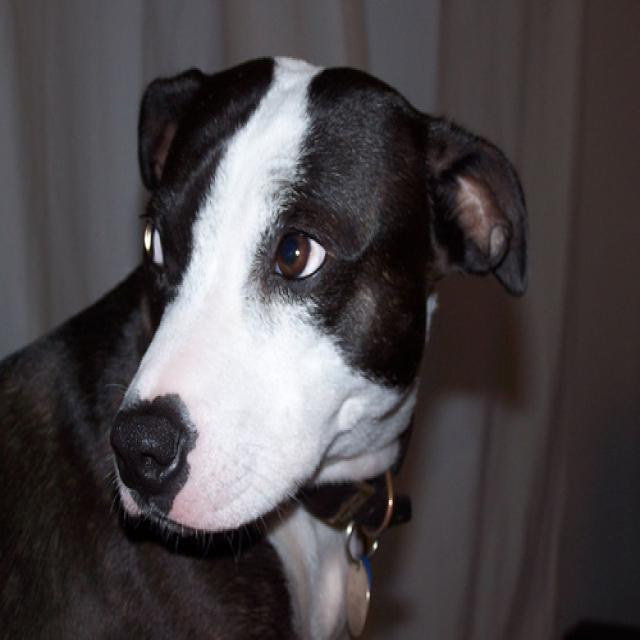dog-staffordshire_bull_terrier: (1, 44, 535, 637)
